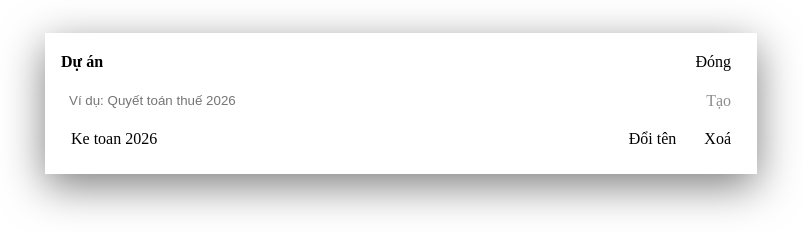
Test: nut xoa hai nhip › nhan cua NUT mang cau canh bao, khong chi mot dong chu canh ben
This screenshot has width=803, height=232.
Step 1. Click the button with aria-label "Xoá dự án: Ke toan 2026" → (718, 139), box [694, 126, 741, 152]
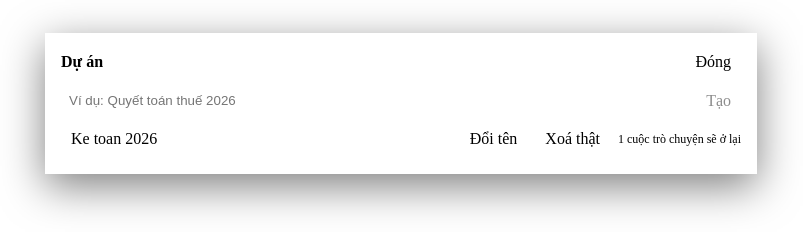
Expected: the button named "1 cuộc trò chuyện sẽ ở lại" is shown, [535, 126, 610, 152]
